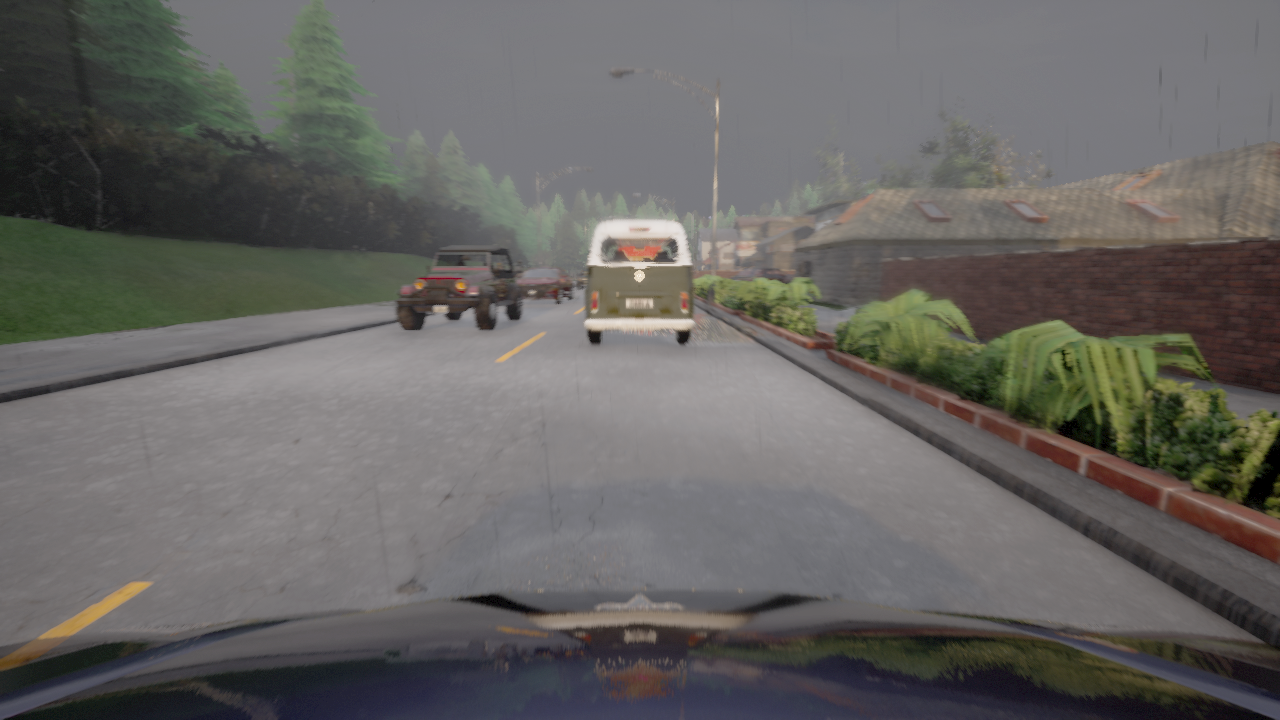cyclist: (0, 588, 1279, 719), (584, 219, 695, 344), (394, 245, 522, 330), (516, 266, 572, 303), (724, 268, 793, 292), (577, 269, 586, 288)
pedestrian: (515, 260, 523, 276)
